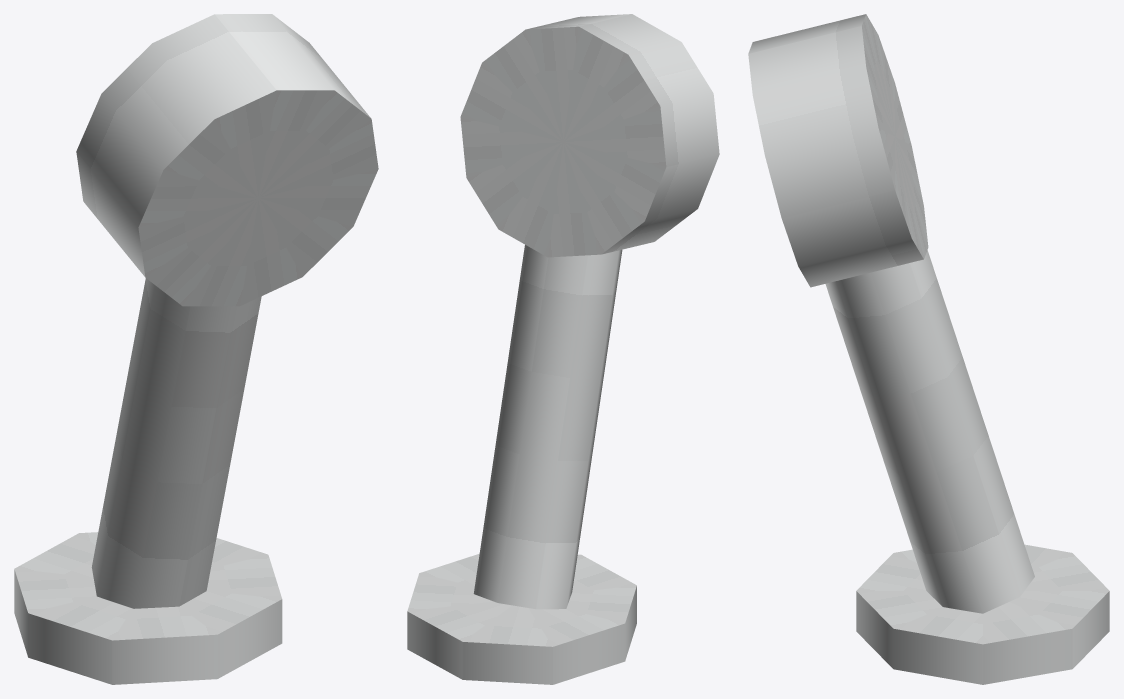
File: trusssignalarm_stub_111.obj
The picture shows the model from 3 angles, left to right: view 1: azimuth 30°, elevation 25°; view 2: azimuth 150°, elevation 25°; view 3: azimuth 270°, elevation 25°; orthographic projection. The views are drawn at different scales.
Visible parts, largest first — view 1: trusssignalarm_stub_111; view 2: trusssignalarm_stub_111; view 3: trusssignalarm_stub_111.
Boxes of the visible parts, x1=… form: trusssignalarm_stub_111: x1=14, y1=14, x2=378, y2=684; trusssignalarm_stub_111: x1=407, y1=14, x2=719, y2=684; trusssignalarm_stub_111: x1=748, y1=14, x2=1109, y2=684.
Bounding box in the file's own units: 0.35 × 0.9226 × 0.4992.
